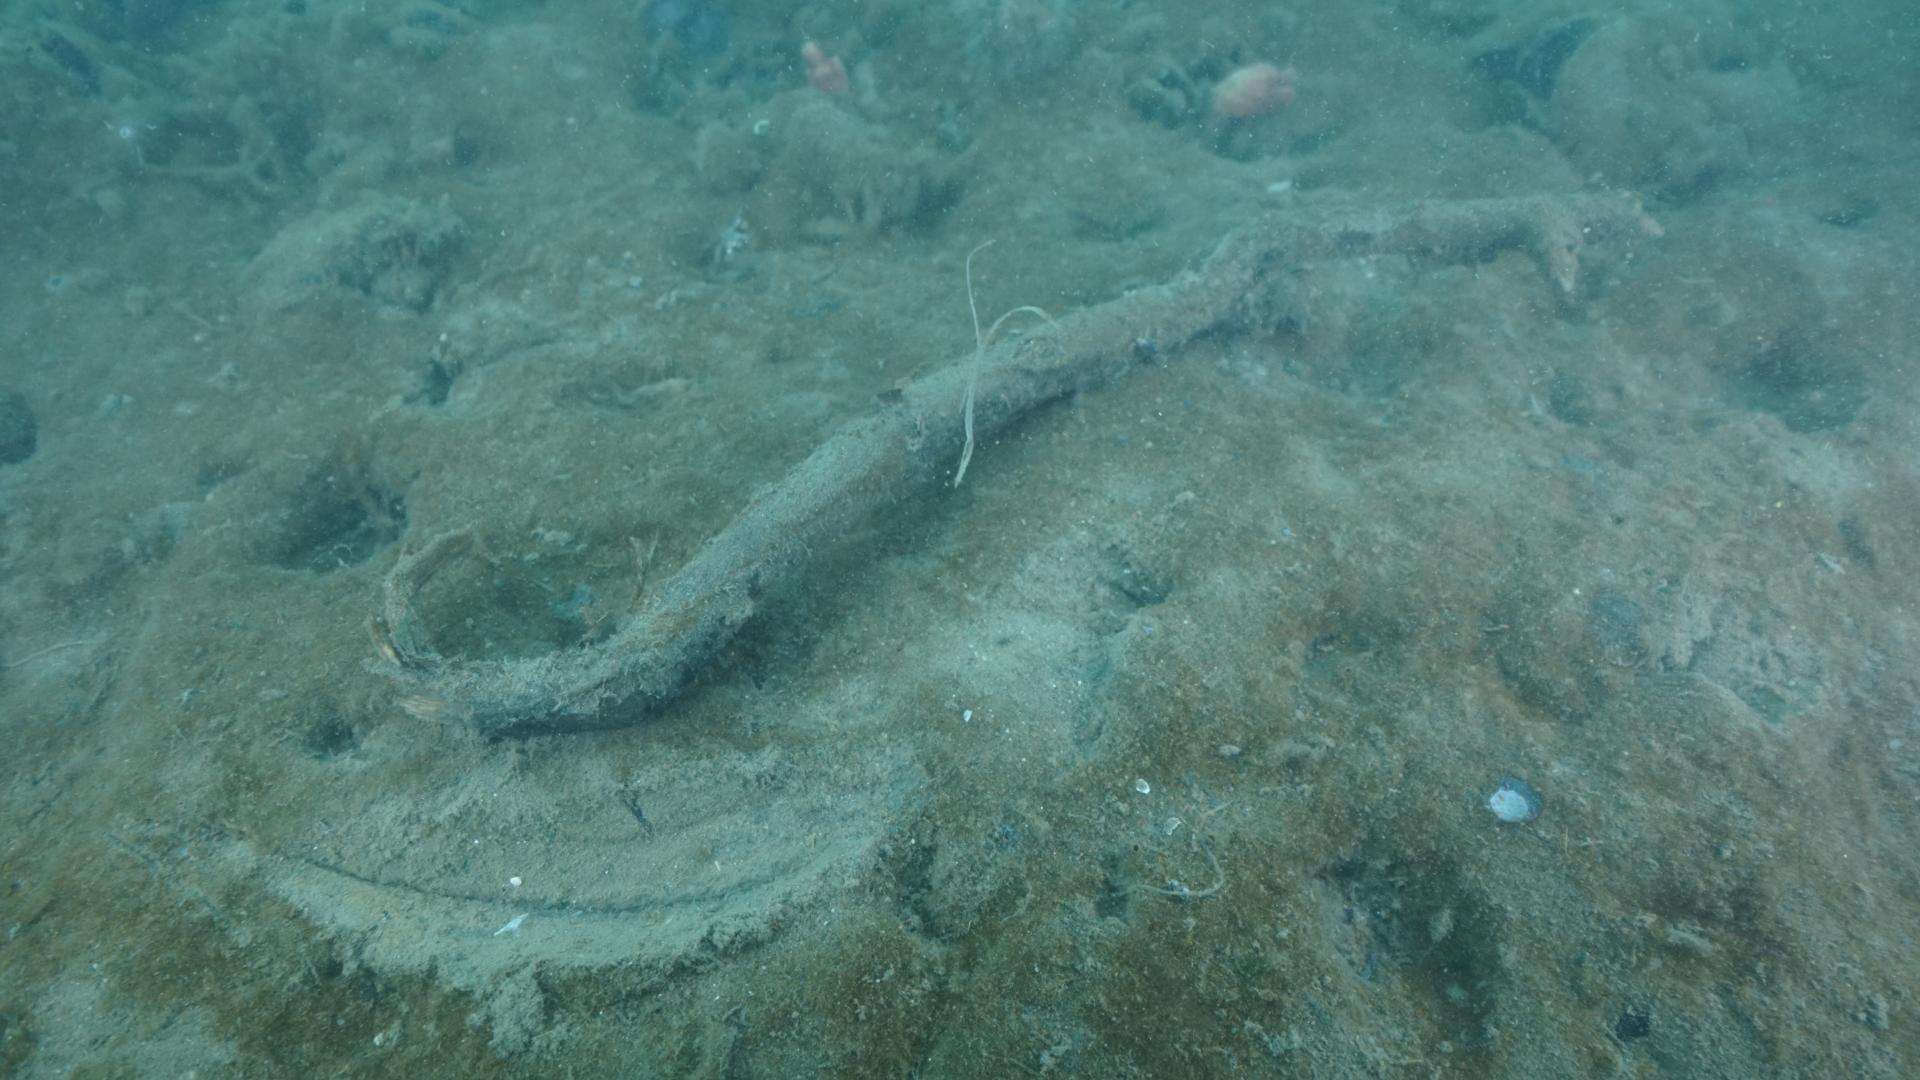wood: (360, 187, 1669, 733)
